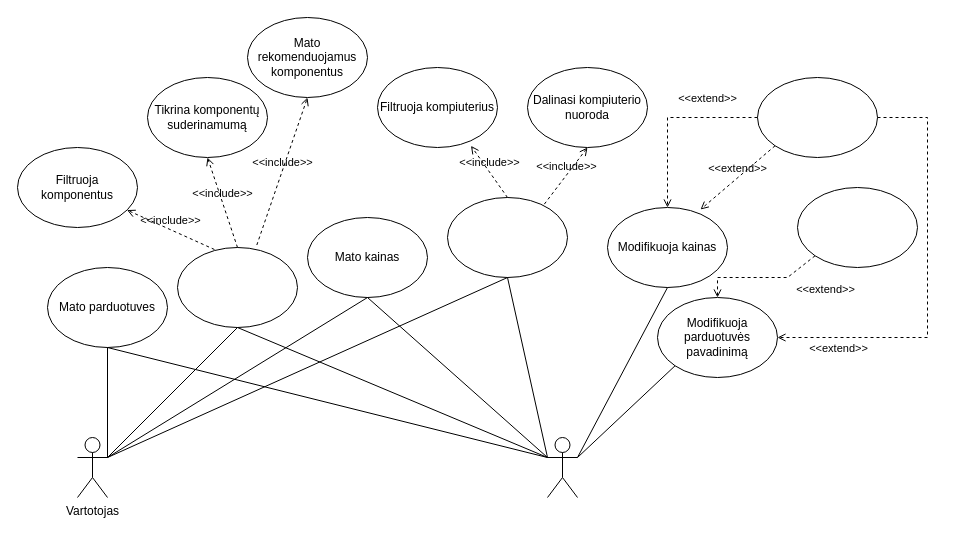
Image size: 953x536. Some labels were removed from this diagram. The shapes that lost their labels are listed below. From the top down, each one's box as (x1, y1, x2, y2) in pixels, then its label:
(756, 76, 878, 158): Autorizacija
(446, 196, 568, 278): Mato kompiuterius
(796, 186, 918, 268): Autentifikacija
(176, 246, 298, 328): Mato komponentus
(546, 436, 578, 498): Parduotuvė
